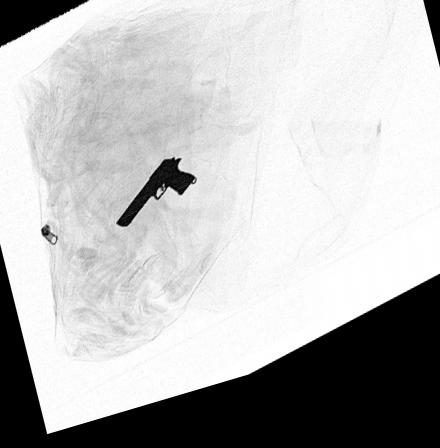Gun: (114, 166, 195, 233)
